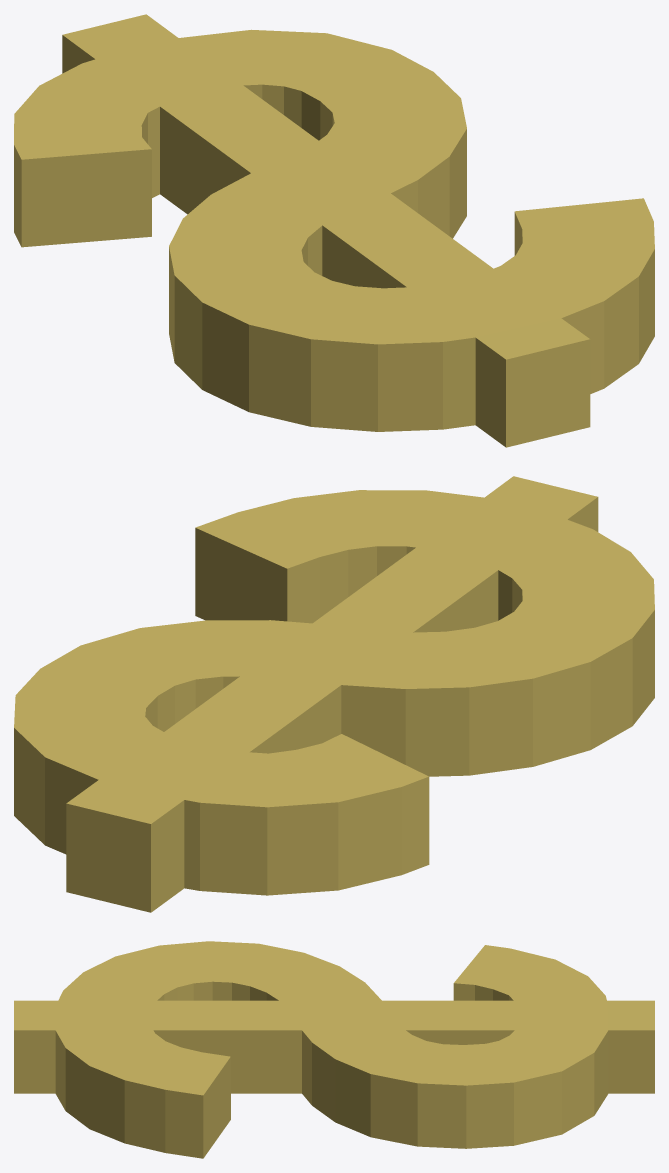
File: Pickups.fbx
The picture shows the model from 3 angles, top to bottom: view 1: azimuth 30°, elevation 25°; view 2: azimuth 150°, elevation 25°; view 3: azimuth 270°, elevation 25°; orthographic projection. The views are drawn at different scales.
Visible parts, largest first — view 1: FundingDollar; view 2: FundingDollar; view 3: FundingDollar.
Boxes of the visible parts, x1,y1,x2,y2 form: FundingDollar: [14, 14, 654, 447]; FundingDollar: [14, 476, 654, 912]; FundingDollar: [14, 941, 654, 1158].
Size of the model in its own units: 3150 by 5529 by 605.
